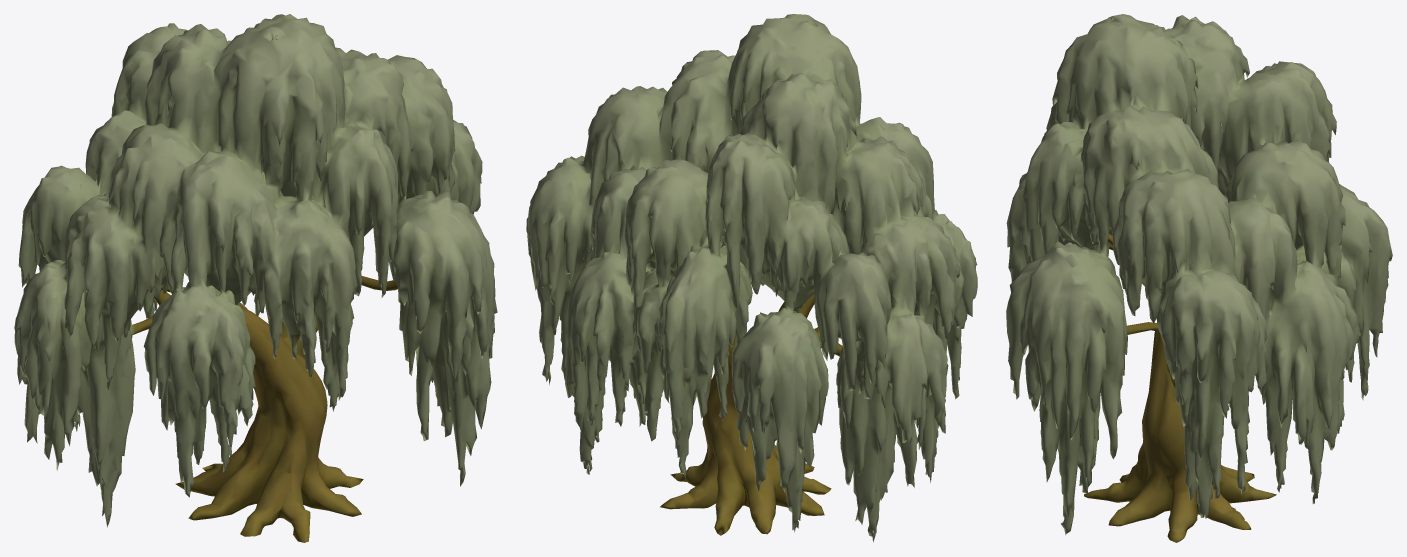
The model's file is nat_tree_willow_v1.glb.
3 views of the same model, side by side, from view 1: azimuth 30°, elevation 25°; view 2: azimuth 150°, elevation 25°; view 3: azimuth 270°, elevation 25° (orthographic). The views are drawn at different scales.
Parts seen in each view (by area): view 1: tripo_node_1587f0eb-4540-4b00-be50-2110dd19e3e9; view 2: tripo_node_1587f0eb-4540-4b00-be50-2110dd19e3e9; view 3: tripo_node_1587f0eb-4540-4b00-be50-2110dd19e3e9.
Boxes of the visible parts, left/top/right/bottom form: tripo_node_1587f0eb-4540-4b00-be50-2110dd19e3e9: left=14, top=14, right=497, bottom=542; tripo_node_1587f0eb-4540-4b00-be50-2110dd19e3e9: left=526, top=14, right=977, bottom=542; tripo_node_1587f0eb-4540-4b00-be50-2110dd19e3e9: left=1006, top=14, right=1392, bottom=542.
Size of the model in its own units: 0.9143 by 0.9818 by 0.7211.
Materials: 1 (1 with a texture image).
